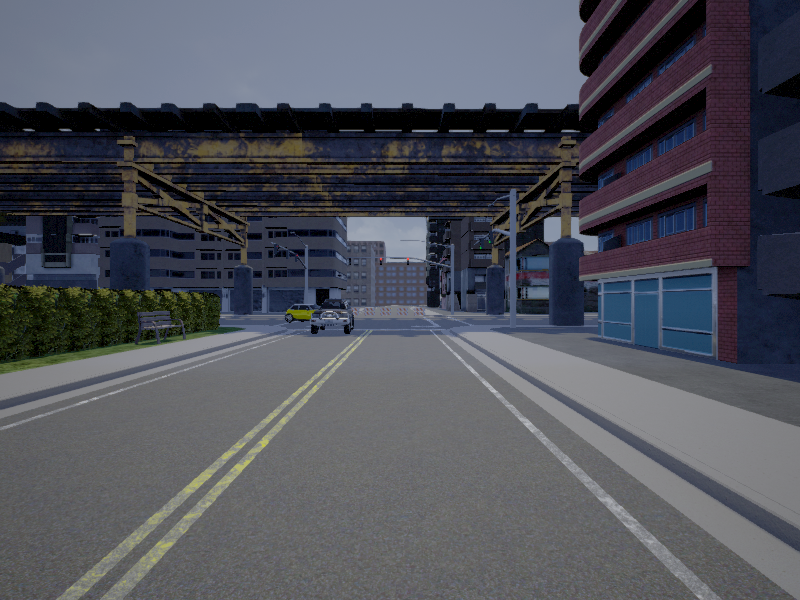Benign: (312, 301, 350, 332), (289, 306, 322, 322)
